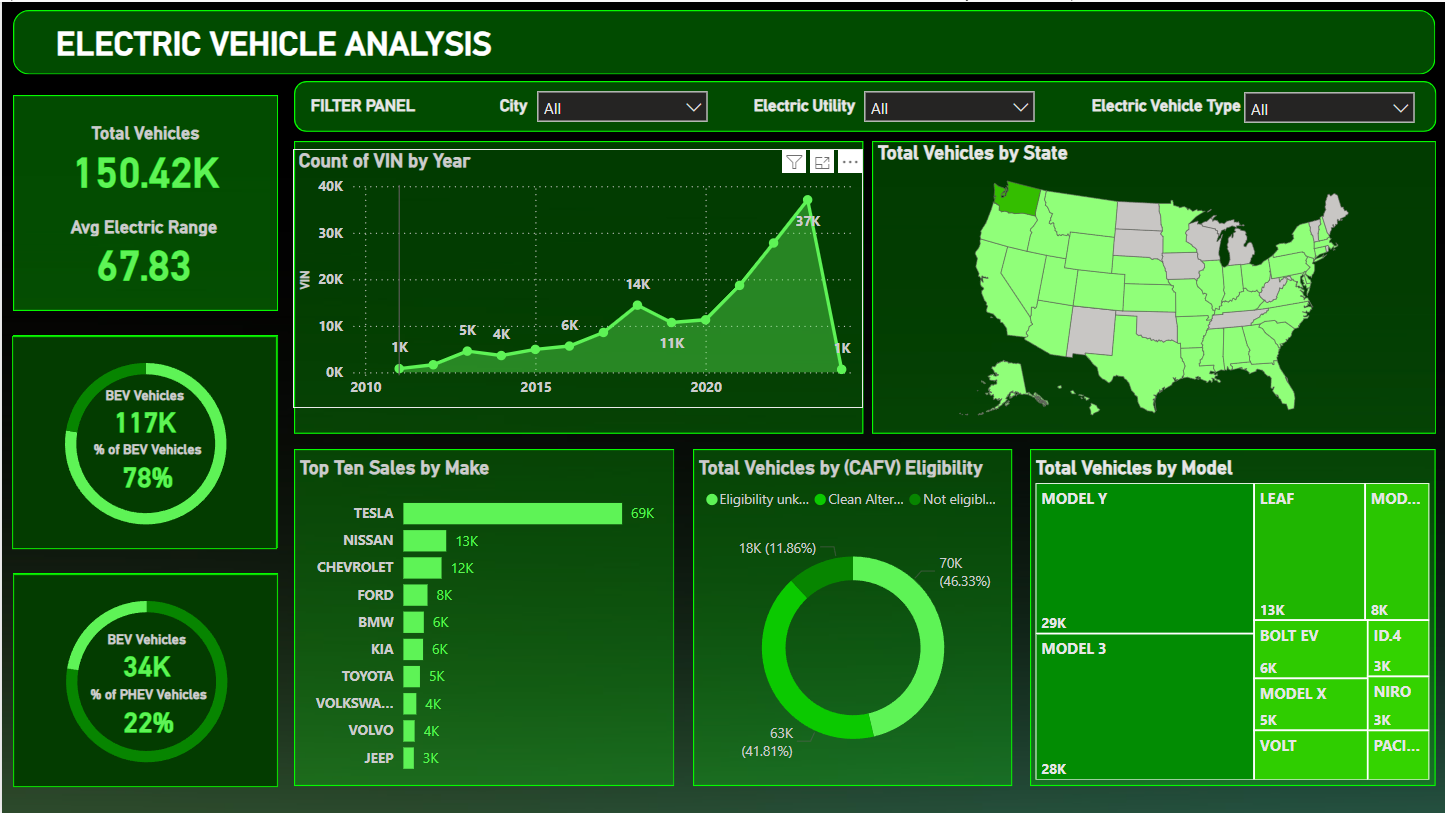

Layout of this report page (visuals, bound fields, positions):
{"tool":"powerbi","page":{"name":"Page 1","canvas":[1280,720],"ordinal":0},"visuals":[{"type":"shape","box":[9.9,6.8,1261.3,57.3],"z":0},{"type":"textbox","box":[33.4,15,414.6,49],"z":1000},{"type":"shape","box":[9.8,82.8,235.2,191.5],"z":2000},{"type":"shape","box":[9.7,295.7,235.4,188.7],"z":3000},{"type":"shape","box":[9.7,506.7,235.4,188.7],"z":4000},{"type":"shape","box":[259,123.6,504.9,259.6],"z":5000},{"type":"shape","box":[771,123.6,500.3,259.6],"z":6000},{"type":"shape","box":[259,396.3,337.4,298.9],"z":7000},{"type":"shape","box":[612.8,396.3,283.2,298.9],"z":8000},{"type":"shape","box":[911.6,396.3,359.7,298.9],"z":9000},{"type":"card","title":"Total Vehicles","fields":{"Values":["Count(Electric_Vehicle_Population_Data.DOL Vehicle ID)"]},"box":[35.6,106,183.5,65.9],"z":10000},{"type":"card","title":"Avg Electric Range","fields":{"Values":["Avg(Electric_Vehicle_Population_Data.Electric Range)"]},"box":[33,189.7,186.2,64.1],"z":11000},{"type":"donutChart","fields":{"Category":["Electric_Vehicle_Population_Data.Electric Vehicle Type"],"Y":["CountNonNull(Electric_Vehicle_Population_Data.Electric Vehicle Type)"]},"box":[9.8,506.8,235.2,188.8],"z":12000},{"type":"lineChart","title":"Count of VIN by Year","fields":{"Category":["Electric_Vehicle_Population_Data.Model Year"],"Y":["CountNonNull(Electric_Vehicle_Population_Data.DOL Vehicle ID)"]},"box":[257.7,130.1,505.5,229.5],"z":13000},{"type":"donutChart","title":"Total Vehicles by (CAFV) Eligibility","fields":{"Category":["Electric_Vehicle_Population_Data.Clean Alternative Fuel Vehicle (CAFV) Eligibility"],"Y":["CountNonNull(Electric_Vehicle_Population_Data.Clean Alternative Fuel Vehicle (CAFV) Eligibility)"]},"box":[612.8,402.8,283.8,293],"z":14000},{"type":"clusteredBarChart","title":"Top Ten Sales by Make","fields":{"Category":["Electric_Vehicle_Population_Data.Make"],"Y":["CountNonNull(Electric_Vehicle_Population_Data.Make)"]},"box":[259,402.8,337.4,292.3],"z":15000},{"type":"shapeMap","fields":{"Category":["Electric_Vehicle_Population_Data.State"],"Value":["Electric_Vehicle_Population_Data.Total Vehicles"]},"box":[771.7,123.6,500.3,259.6],"z":16000},{"type":"donutChart","fields":{"Category":["Electric_Vehicle_Population_Data.Electric Vehicle Type"],"Y":["CountNonNull(Electric_Vehicle_Population_Data.Electric Vehicle Type)"]},"box":[9,295.7,235.2,189],"z":17000},{"type":"card","title":"BEV Vehicles","fields":{"Values":["Electric_Vehicle_Population_Data.BEV Vehicles"]},"box":[81.1,342,91.7,60.6],"z":18000},{"type":"card","title":"% of BEV Vehicles","fields":{"Values":["Electric_Vehicle_Population_Data.% of BEV"]},"box":[0,390.1,258.3,52.6],"z":19000},{"type":"card","title":"BEV Vehicles","fields":{"Values":["Electric_Vehicle_Population_Data.PHEV Vehicles"]},"box":[82.8,558.5,91.7,60.6],"z":20000},{"type":"card","title":"% of PHEV Vehicles","fields":{"Values":["Electric_Vehicle_Population_Data.% of PHEV"]},"box":[0.9,607.5,258.3,52.6],"z":21000},{"type":"treemap","fields":{"Group":["Electric_Vehicle_Population_Data.Model"],"Values":["Electric_Vehicle_Population_Data.Total Vehicles"]},"box":[911.6,402.8,359,292.3],"z":22000},{"type":"shape","box":[259,70,1013,45.1],"z":23000},{"type":"textbox","box":[268.8,77.8,115.7,30.1],"z":24000},{"type":"slicer","fields":{"Values":["Electric_Vehicle_Population_Data.City"]},"box":[464.3,69.3,171.3,45.8],"z":25000},{"type":"textbox","box":[436.2,77.8,45.1,30.1],"z":26000},{"type":"slicer","fields":{"Values":["Electric_Vehicle_Population_Data.Electric Utility"]},"box":[754.7,69.3,171.3,45.8],"z":27000},{"type":"textbox","box":[661.1,77.8,110.5,30.1],"z":28000},{"type":"textbox","box":[961.3,77.8,161.5,30.1],"z":29000},{"type":"slicer","fields":{"Values":["Electric_Vehicle_Population_Data.Electric Vehicle Type"]},"box":[1091.4,70,171.3,45.8],"z":30000}]}

Visuals, with their boxes in screenshot pixels (x1, y1, x2, y2), scaled from the page's 1280x720 canvas onto the 1445x813 screenshot:
shape: (x1=11, y1=8, x2=1435, y2=72)
textbox: (x1=38, y1=17, x2=506, y2=72)
shape: (x1=11, y1=93, x2=277, y2=310)
shape: (x1=11, y1=334, x2=277, y2=547)
shape: (x1=11, y1=572, x2=277, y2=785)
shape: (x1=292, y1=140, x2=862, y2=433)
shape: (x1=870, y1=140, x2=1435, y2=433)
shape: (x1=292, y1=447, x2=673, y2=785)
shape: (x1=692, y1=447, x2=1012, y2=785)
shape: (x1=1029, y1=447, x2=1435, y2=785)
"Total Vehicles" card: (x1=40, y1=120, x2=247, y2=194)
"Avg Electric Range" card: (x1=37, y1=214, x2=247, y2=287)
donutChart - Electric_Vehicle_Population_Data.Electric Vehicle Type x CountNonNull(Electric_Vehicle_Population_Data.Electric Vehicle Type): (x1=11, y1=572, x2=277, y2=785)
"Count of VIN by Year" lineChart: (x1=291, y1=147, x2=862, y2=406)
"Total Vehicles by (CAFV) Eligibility" donutChart: (x1=692, y1=455, x2=1012, y2=786)
"Top Ten Sales by Make" clusteredBarChart: (x1=292, y1=455, x2=673, y2=785)
shapeMap - Electric_Vehicle_Population_Data.State x Electric_Vehicle_Population_Data.Total Vehicles: (x1=871, y1=140, x2=1436, y2=433)
donutChart - Electric_Vehicle_Population_Data.Electric Vehicle Type x CountNonNull(Electric_Vehicle_Population_Data.Electric Vehicle Type): (x1=10, y1=334, x2=276, y2=547)
"BEV Vehicles" card: (x1=92, y1=386, x2=195, y2=455)
"% of BEV Vehicles" card: (x1=0, y1=440, x2=292, y2=500)
"BEV Vehicles" card: (x1=93, y1=631, x2=197, y2=699)
"% of PHEV Vehicles" card: (x1=1, y1=686, x2=293, y2=745)
treemap - Electric_Vehicle_Population_Data.Model x Electric_Vehicle_Population_Data.Total Vehicles: (x1=1029, y1=455, x2=1434, y2=785)
shape: (x1=292, y1=79, x2=1436, y2=130)
textbox: (x1=303, y1=88, x2=434, y2=122)
slicer - Electric_Vehicle_Population_Data.City: (x1=524, y1=78, x2=718, y2=130)
textbox: (x1=492, y1=88, x2=543, y2=122)
slicer - Electric_Vehicle_Population_Data.Electric Utility: (x1=852, y1=78, x2=1045, y2=130)
textbox: (x1=746, y1=88, x2=871, y2=122)
textbox: (x1=1085, y1=88, x2=1268, y2=122)
slicer - Electric_Vehicle_Population_Data.Electric Vehicle Type: (x1=1232, y1=79, x2=1425, y2=131)
